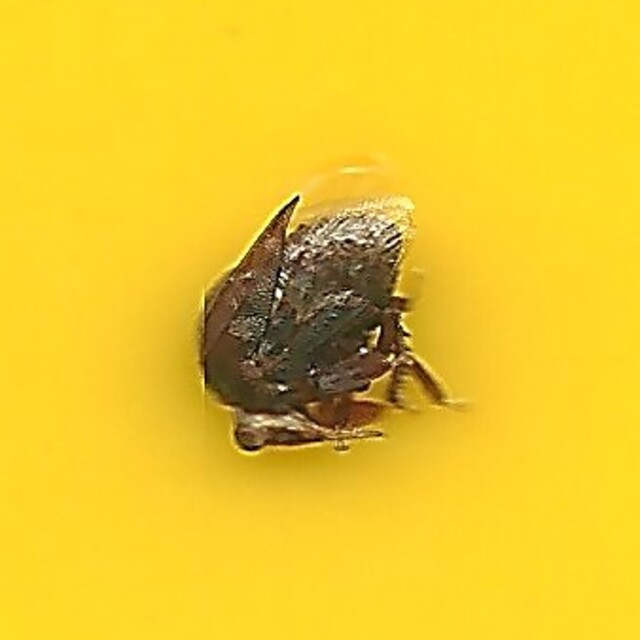Hemiptera: (189, 182, 451, 458)
